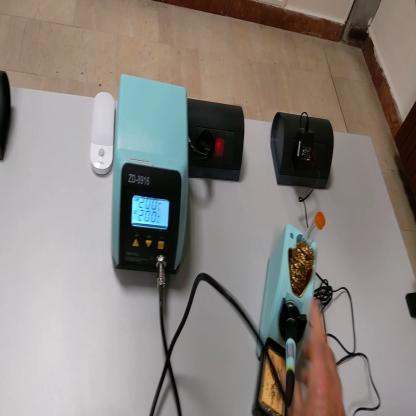hand: (290, 293, 347, 415)
socket: (270, 109, 336, 191), (190, 95, 245, 180)
welder base: (253, 212, 325, 415)
welder probe tip: (284, 315, 299, 402)
welder station: (111, 73, 194, 278)
